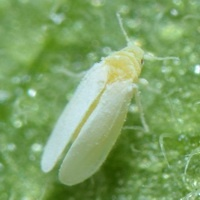insect: (41, 19, 143, 184)
